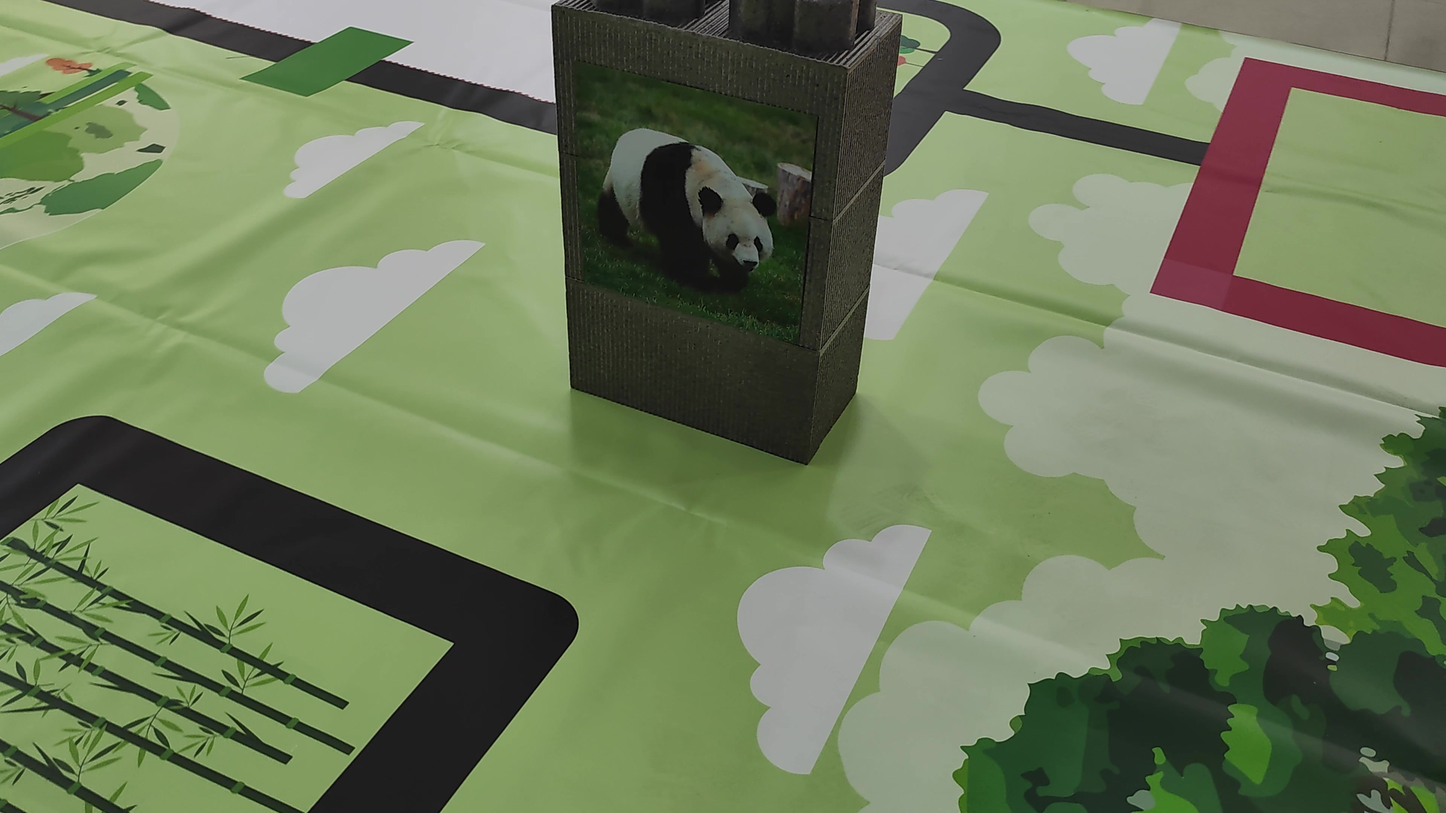panda: (586, 100, 796, 321)
